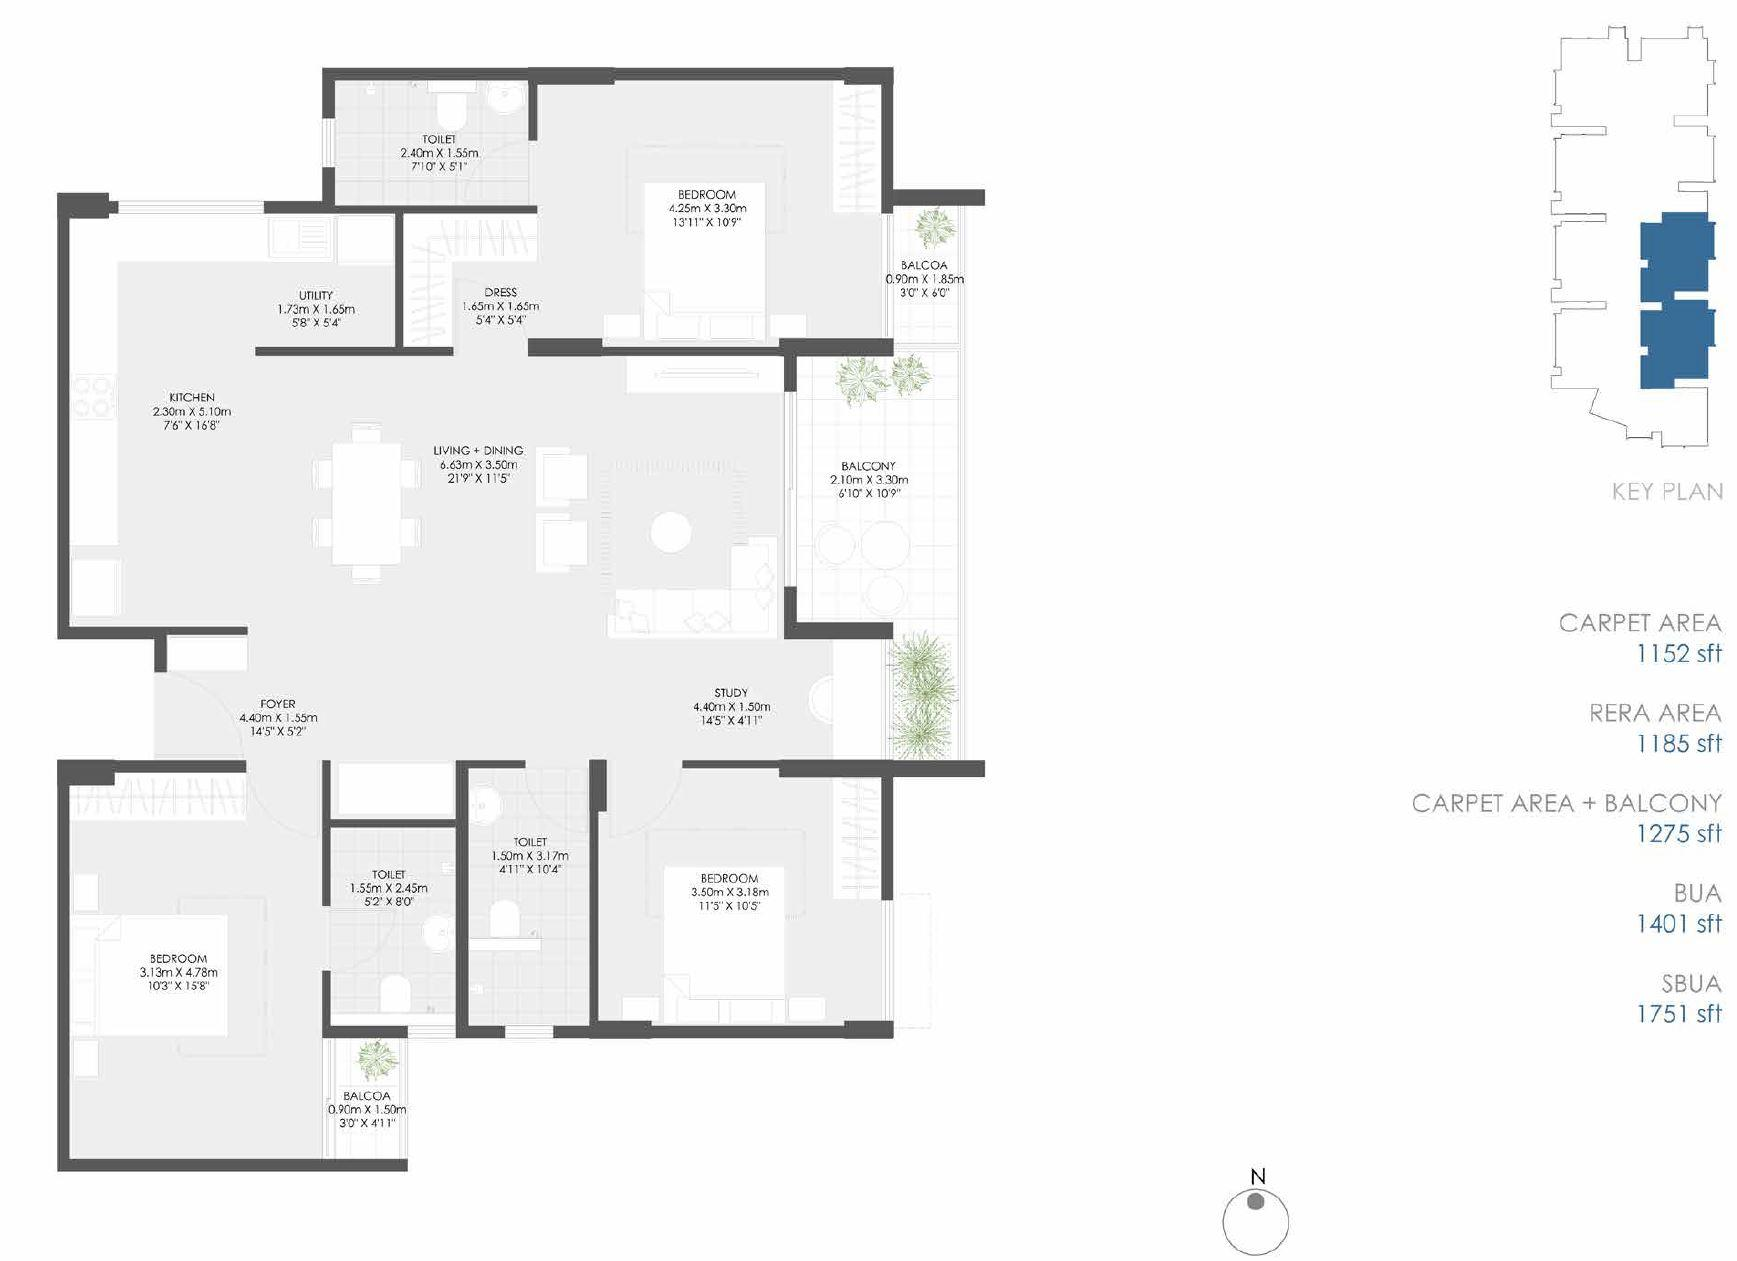Balcony: (794, 351, 958, 622)
Bed: (665, 867, 790, 1026), (647, 179, 765, 344), (73, 914, 225, 1037)
Bedroom: (70, 775, 322, 1150), (539, 82, 878, 344), (599, 771, 886, 1022)
Dining Room: (282, 357, 499, 618)
Dining table: (294, 413, 432, 589)
Foyer: (155, 641, 522, 755)
Kitchen: (66, 221, 278, 624)
Living Room: (499, 356, 786, 628)
Sofa: (603, 585, 779, 642), (734, 537, 779, 638), (527, 446, 589, 507), (533, 514, 593, 572)
Wardrobe: (70, 775, 241, 828), (398, 208, 537, 263), (330, 761, 459, 820), (402, 210, 453, 348), (827, 82, 878, 206), (833, 771, 881, 898), (167, 637, 247, 673)
balcoa: (886, 204, 962, 341), (330, 1038, 403, 1154)
commode: (433, 88, 472, 136), (378, 979, 415, 1011), (491, 902, 526, 933)
door: (599, 761, 685, 848), (152, 672, 243, 755), (244, 763, 322, 843), (457, 278, 534, 359), (457, 139, 538, 212), (778, 386, 806, 591), (522, 762, 592, 843), (325, 906, 399, 982), (312, 1034, 333, 1153)
fridge: (69, 558, 121, 624)
kitchen-slab: (70, 227, 116, 544), (70, 216, 337, 264)
sink: (263, 218, 332, 256), (485, 85, 525, 121), (471, 788, 500, 825), (423, 916, 453, 951)
study: (525, 638, 890, 763)
toilet: (468, 766, 589, 1032), (326, 823, 459, 1028), (326, 78, 535, 204)
tv: (645, 361, 763, 395)
utility: (248, 210, 392, 347)
washing-machine: (340, 213, 395, 266)
